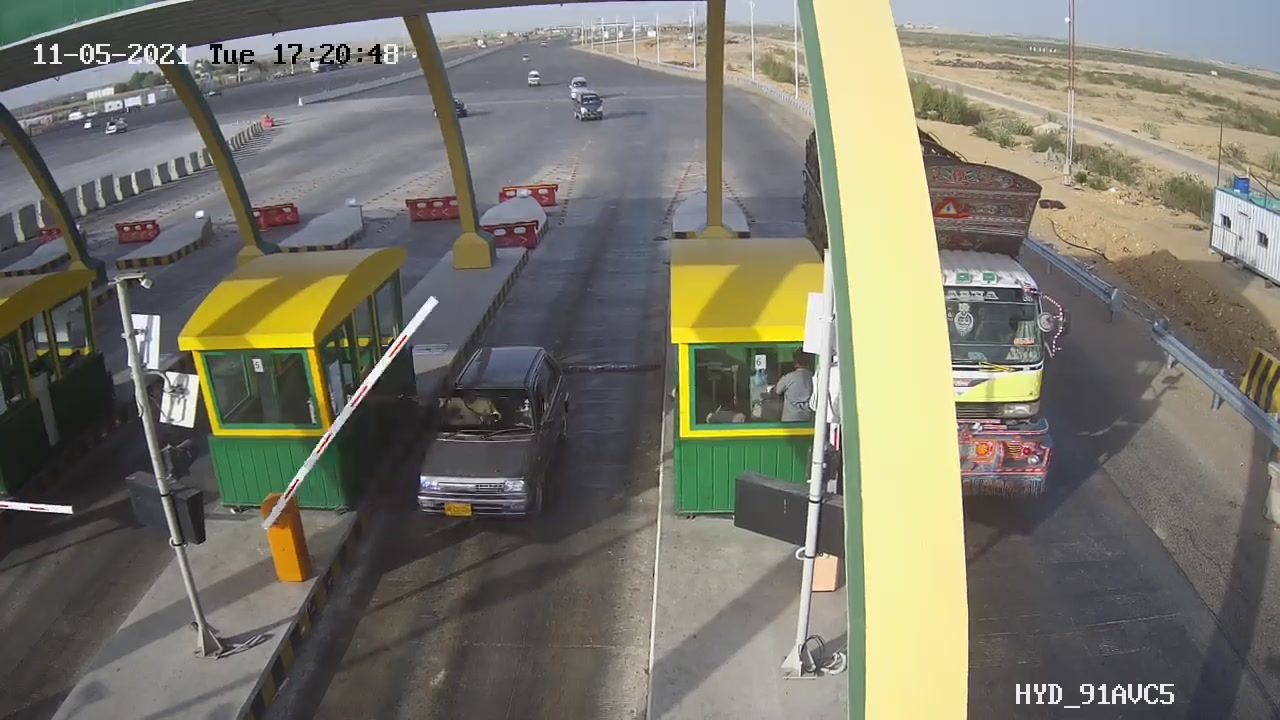F1: (408, 334, 581, 534)
